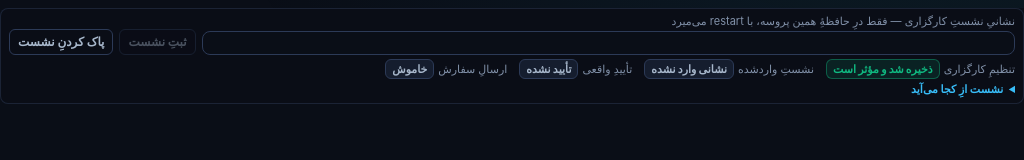
ورودیِ نامعتبر و بی‌محتوا › MISSING_TOKEN هم همان‌طور: پیامِ سرویس، نه ادعایِ رابط
The width and height of the screenshot is (1024, 160).
Expected: the text "ذخیره شد و مؤثر است" is shown, [826,59,940,79]
Type "SEC-AbCdEf-0123456789" into the password field with test id "sarkhati-token-input".
click(608, 43); type("SEC-AbCdEf-0123456789")  # box [202,31,1015,55]
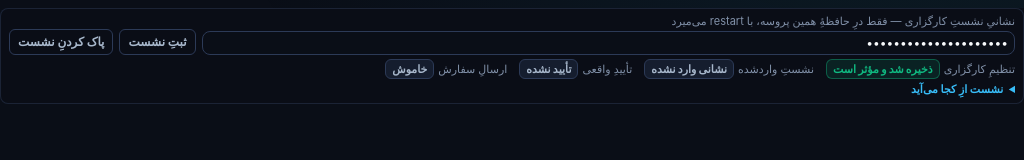
Click the button with test id "sarkhati-token-save".
click(158, 42)  # box [120,29,196,55]
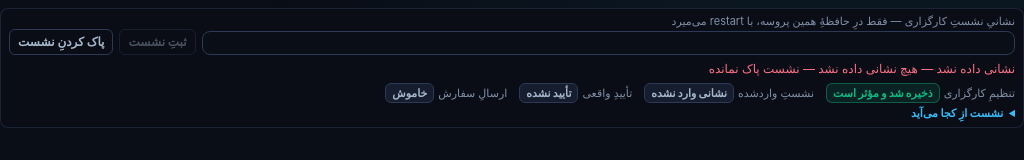
Expected: the message "نشانی داده نشد — هیچ نشانی داده نشد — نشست پاک نمانده" is shown, [709,61,1015,76]
